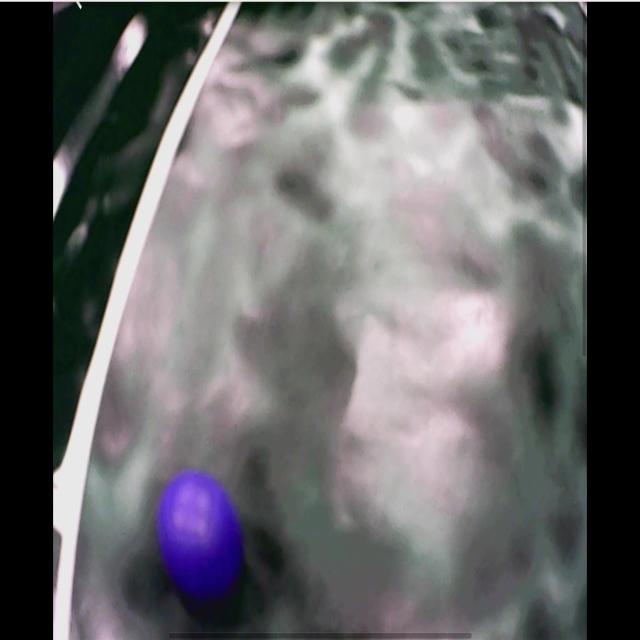ball: (160, 474, 242, 599)
